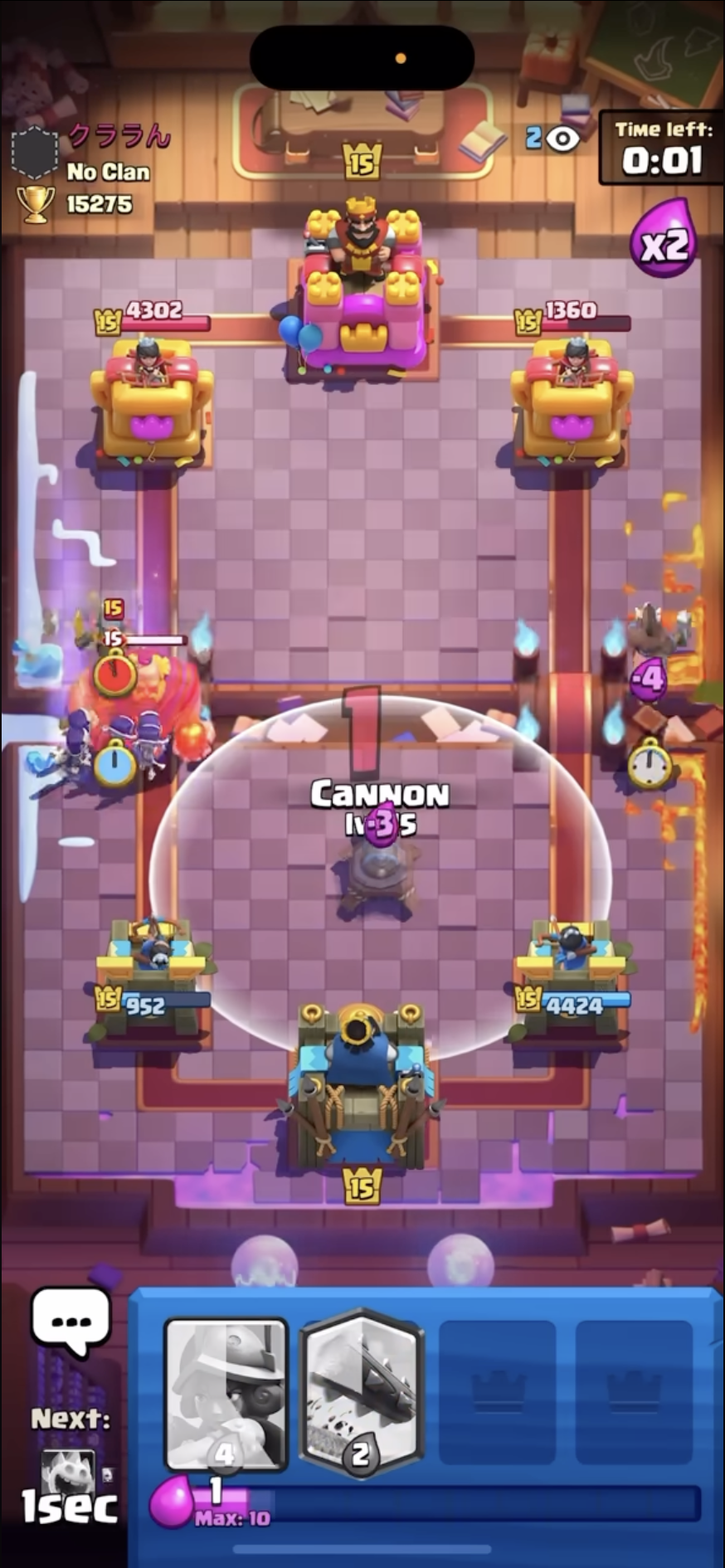evo-skeleton: (138, 724, 168, 784), (63, 728, 94, 773), (109, 715, 134, 766), (65, 706, 93, 744)
hog-rider: (614, 598, 694, 704)
